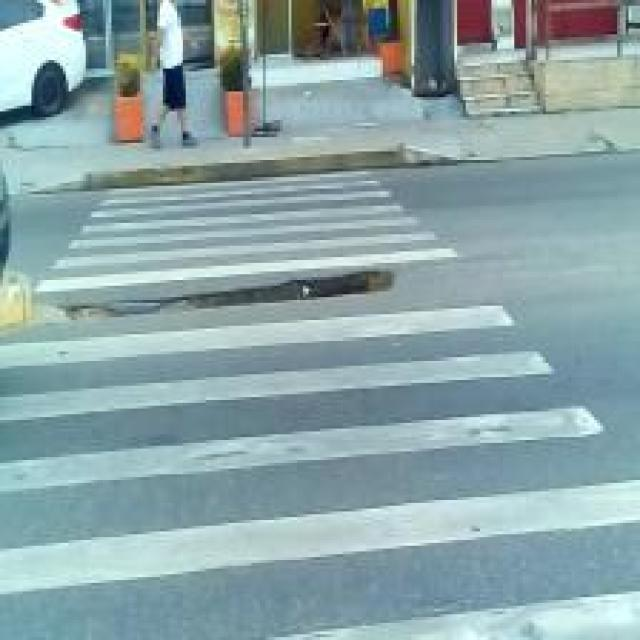walk-crossing: (0, 181, 617, 639)
